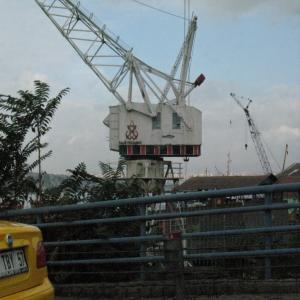Vehicle-registration-plate: (1, 250, 31, 280)
